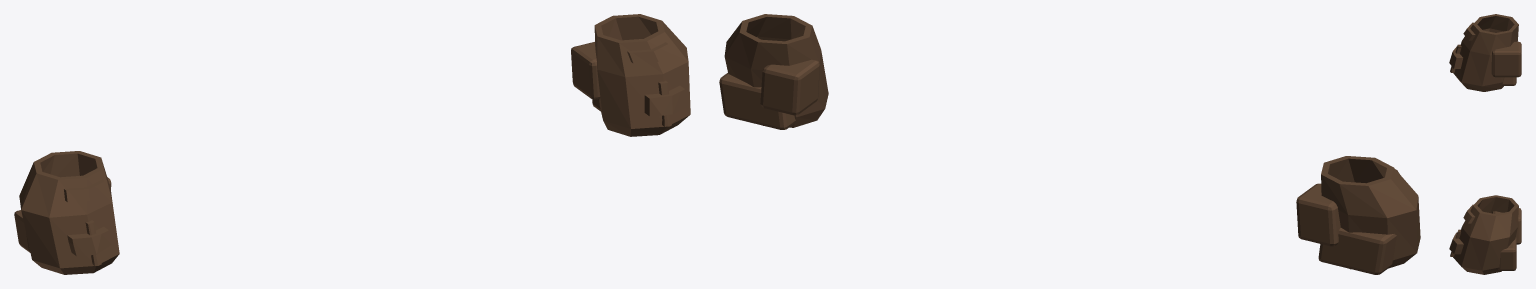
The model's file is leather_hands-female-thickHide.glb.
3 views of the same model, side by side, from view 1: azimuth 30°, elevation 25°; view 2: azimuth 150°, elevation 25°; view 3: azimuth 270°, elevation 25° (orthographic). The views are drawn at different scales.
Parts seen in each view (by area): view 1: Block hand armor -1, Block hand armor 1, Block thumb armor 1, Heavy hide binding Block hand armor 1, Heavy hide binding Block hand armor -1, Glove turned wrist seam -1, Glove turned wrist seam 1; view 2: Block hand armor -1, Block hand armor 1, Block thumb armor 1, Block hand curl armor -1, Block hand curl armor 1, Block thumb armor -1; view 3: Block hand armor 1, Block hand armor -1, Block thumb armor -1, Block hand curl armor 1, Heavy hide binding Block hand armor 1, Heavy hide binding Block hand armor -1, Block thumb armor 1, Glove turned wrist seam -1, Block hand curl armor -1, Glove turned wrist seam 1, Glove back seam -1, Glove back seam 1.
Part boxes in pixels (bbox=[...]): Block hand armor -1: bbox=[19, 151, 119, 274]; Block hand armor 1: bbox=[594, 14, 690, 136]; Block thumb armor 1: bbox=[571, 42, 600, 99]; Heavy hide binding Block hand armor 1: bbox=[644, 85, 685, 116]; Heavy hide binding Block hand armor -1: bbox=[67, 226, 112, 256]; Glove turned wrist seam -1: bbox=[64, 179, 105, 202]; Glove turned wrist seam 1: bbox=[627, 42, 672, 63]; Block hand armor -1: bbox=[1321, 156, 1420, 269]; Block hand armor 1: bbox=[724, 14, 828, 127]; Block thumb armor 1: bbox=[760, 59, 819, 115]; Block hand curl armor -1: bbox=[1318, 228, 1396, 274]; Block hand curl armor 1: bbox=[719, 73, 795, 129]; Block thumb armor -1: bbox=[1296, 183, 1340, 246]; Block hand armor 1: bbox=[1453, 195, 1518, 274]; Block hand armor -1: bbox=[1453, 14, 1518, 91]; Block thumb armor -1: bbox=[1491, 41, 1521, 77]; Block hand curl armor 1: bbox=[1498, 237, 1516, 270]; Heavy hide binding Block hand armor 1: bbox=[1449, 232, 1463, 254]; Heavy hide binding Block hand armor -1: bbox=[1449, 46, 1462, 68]; Block thumb armor 1: bbox=[1492, 208, 1521, 244]; Glove turned wrist seam -1: bbox=[1463, 22, 1475, 40]; Block hand curl armor -1: bbox=[1502, 77, 1516, 85]; Glove turned wrist seam 1: bbox=[1463, 204, 1474, 223]; Glove back seam -1: bbox=[1450, 44, 1461, 72]; Glove back seam 1: bbox=[1450, 229, 1460, 256].
Bounding box in the file's own units: 4.01 × 0.5018 × 0.5721.
